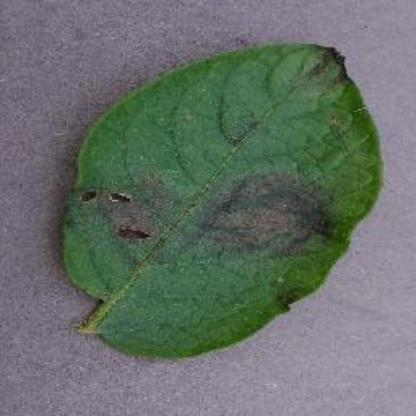Late-Blight: (57, 40, 387, 361)
